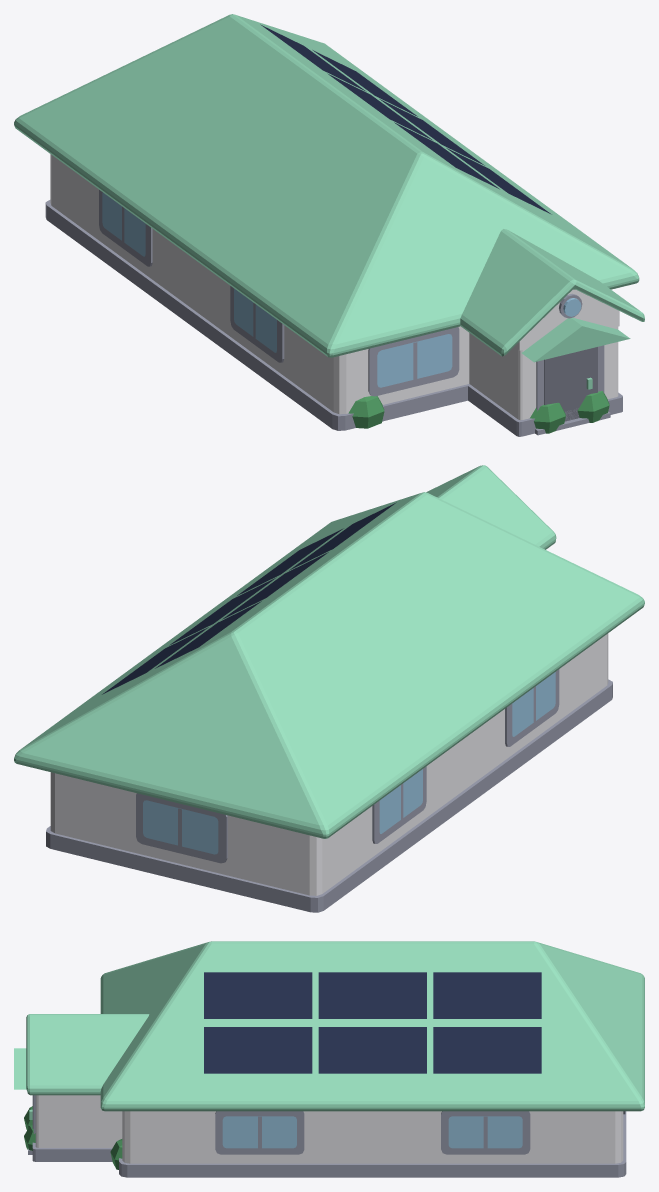
The model's file is house-1x2-1f-mansard-a-solar.glb.
3 views of the same model, one above another, from view 1: azimuth 30°, elevation 25°; view 2: azimuth 150°, elevation 25°; view 3: azimuth 270°, elevation 25° (orthographic). The views are drawn at different scales.
Parts seen in each view (by area): view 1: house-1x2-1f-mansard-a-solar; view 2: house-1x2-1f-mansard-a-solar; view 3: house-1x2-1f-mansard-a-solar.
Boxes of the visible parts, x1,y1,x2,y2 form: house-1x2-1f-mansard-a-solar: (14,14,644,436); house-1x2-1f-mansard-a-solar: (14,465,644,912); house-1x2-1f-mansard-a-solar: (14,941,644,1177).
Size of the model in its own units: 1 by 0.6361 by 2.04.
Materials: 1 (1 with a texture image).
